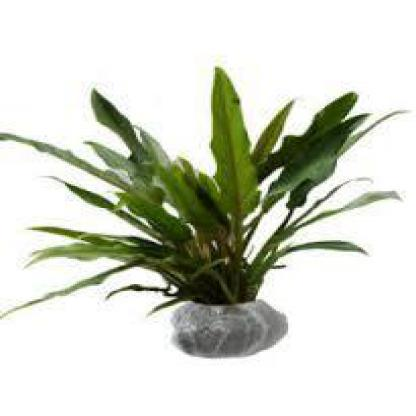Kenanga: (74, 79, 291, 378)
